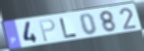0: (79, 12, 99, 36)
2: (119, 7, 138, 32)
4: (22, 20, 40, 45)
8: (98, 10, 118, 33)
L: (58, 17, 79, 39)
P: (38, 18, 57, 43)
